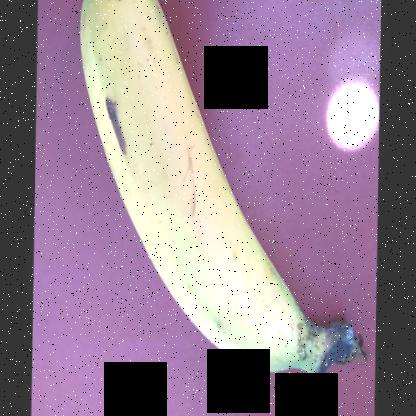ripe: (50, 1, 322, 363)
